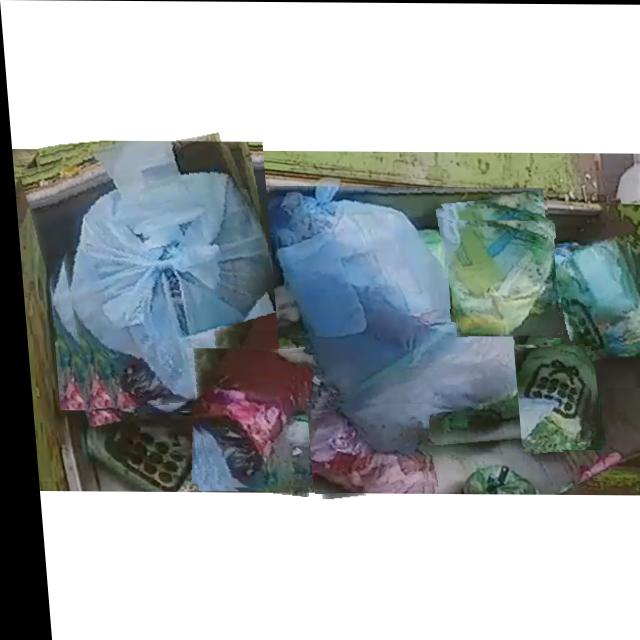general_trashbag: (537, 238, 640, 352), (449, 221, 551, 336), (511, 345, 587, 443)
other_trashbag: (269, 187, 551, 449), (63, 142, 275, 404), (192, 349, 305, 488), (303, 404, 423, 494)
